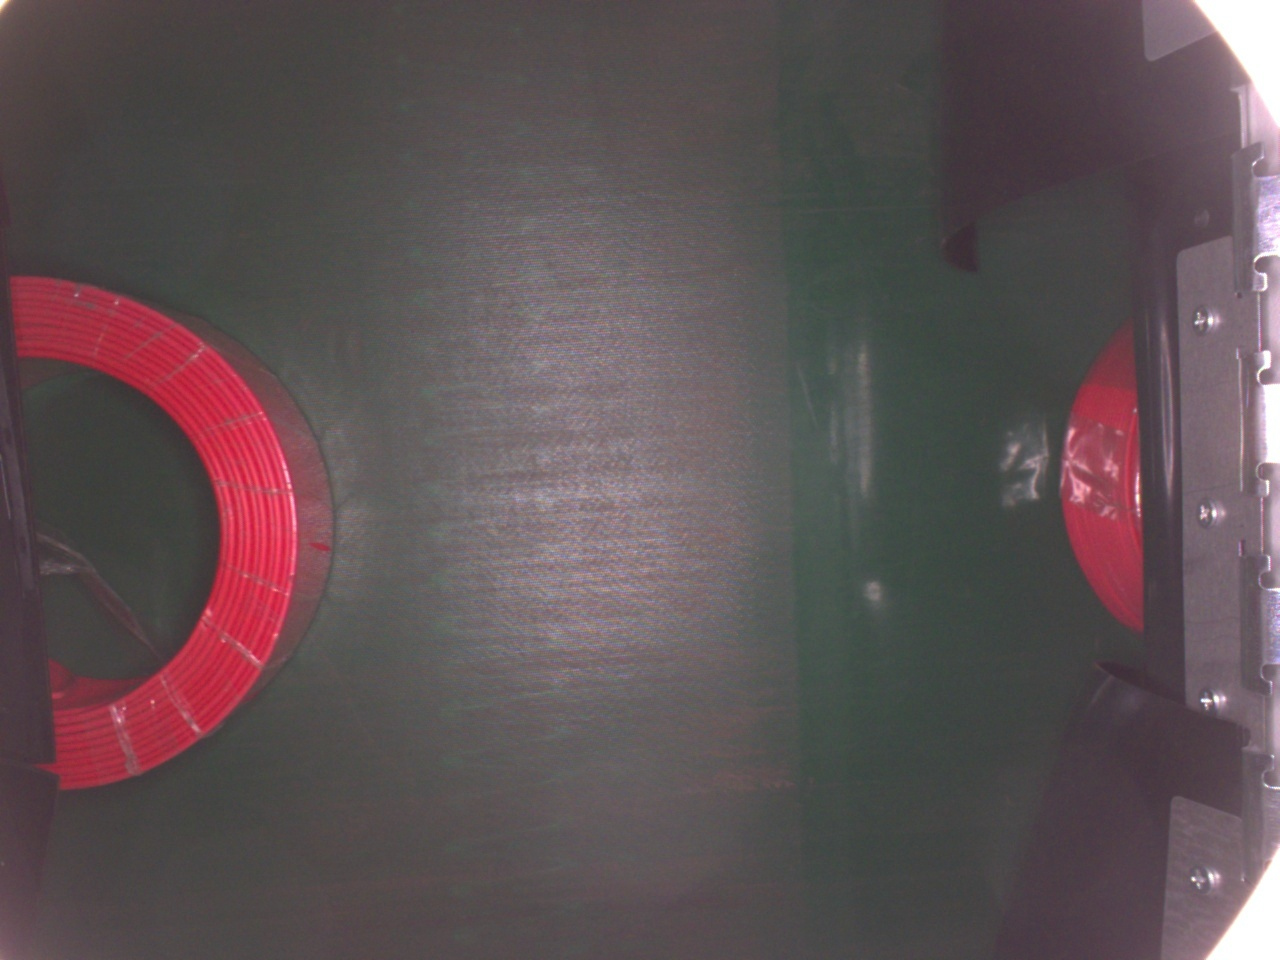red: (0, 270, 335, 795)
